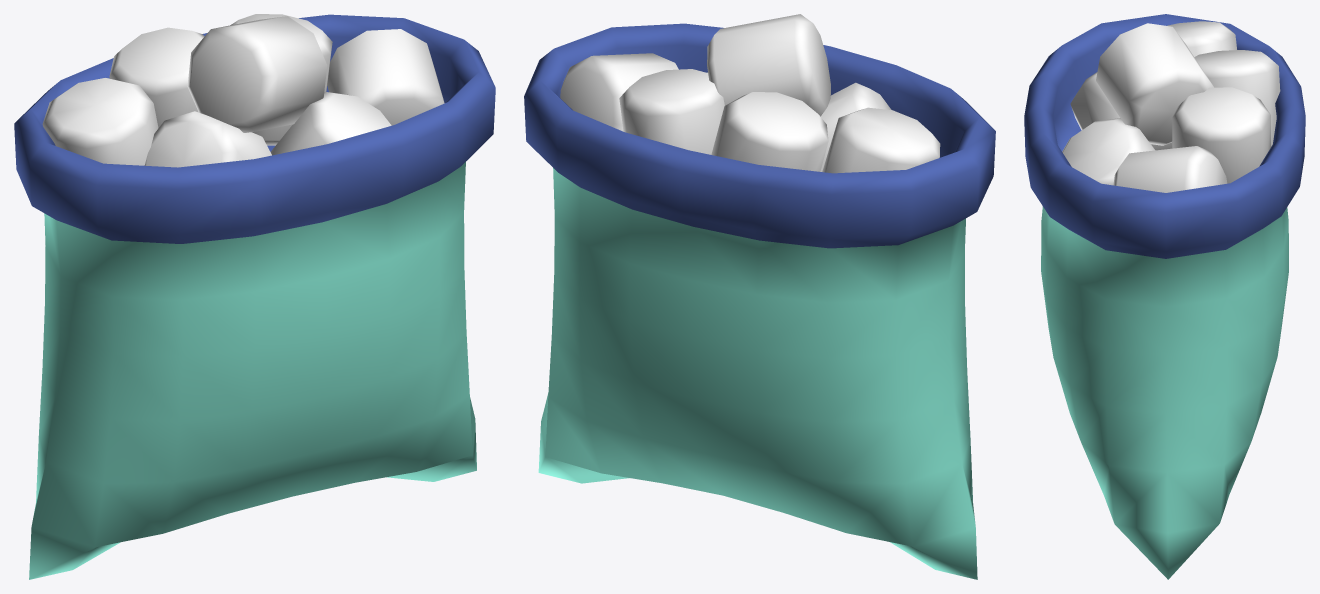
Rendered from Marshmallow_Bag.fbx.
The picture shows the model from 3 angles, left to right: view 1: azimuth 30°, elevation 25°; view 2: azimuth 150°, elevation 25°; view 3: azimuth 270°, elevation 25°; orthographic projection. The views are drawn at different scales.
Visible parts, largest first — view 1: Cube.003, Cylinder.003; view 2: Cube.003, Cylinder.003; view 3: Cube.003, Cylinder.003.
Boxes of the visible parts, left/top/right/bottom form: Cube.003: left=14, top=14, right=495, bottom=579; Cylinder.003: left=42, top=14, right=444, bottom=167; Cube.003: left=524, top=23, right=995, bottom=579; Cylinder.003: left=560, top=14, right=940, bottom=173; Cube.003: left=1024, top=14, right=1305, bottom=579; Cylinder.003: left=1062, top=21, right=1280, bottom=192.
Size of the model in its own units: 88.86 by 97.48 by 55.21.
